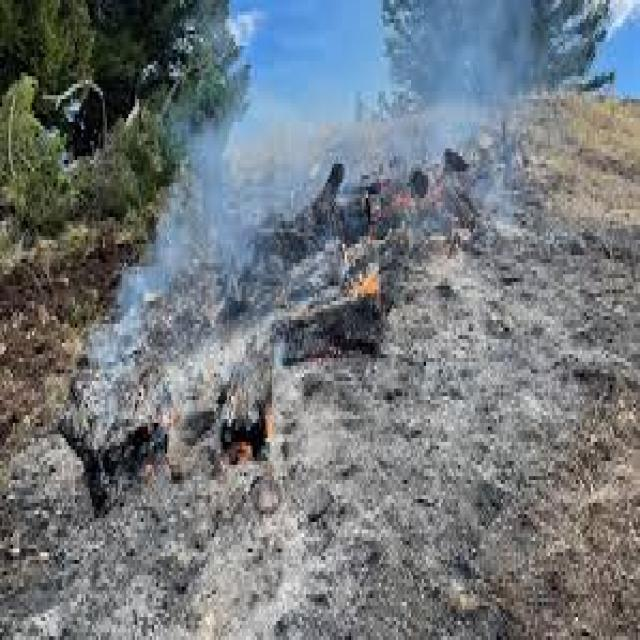Fire: (350, 254, 386, 316)
Smoke: (164, 100, 310, 333), (364, 0, 504, 219)
